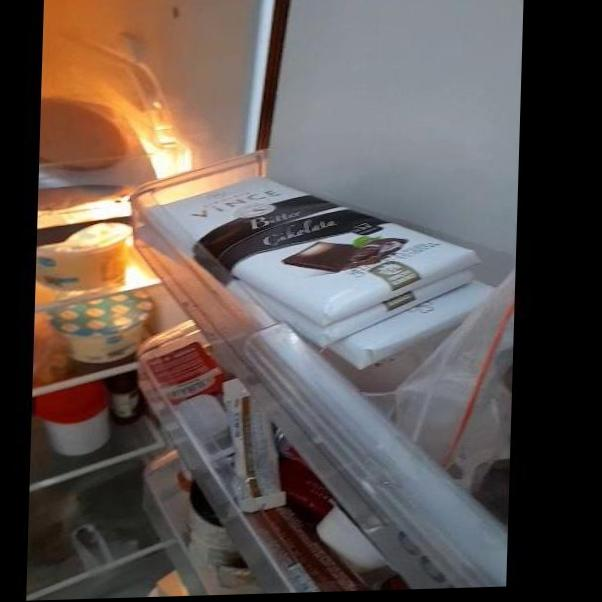chocolate: (156, 176, 472, 327)
yoghurt: (52, 300, 153, 358), (40, 240, 132, 288)
